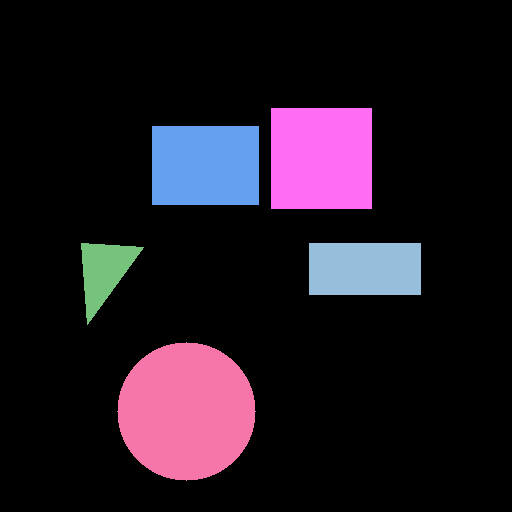circle: (117, 342, 255, 480)
rectangle: (152, 126, 258, 204), (309, 243, 420, 294)
square: (271, 108, 371, 208)
triangle: (81, 243, 143, 324)
